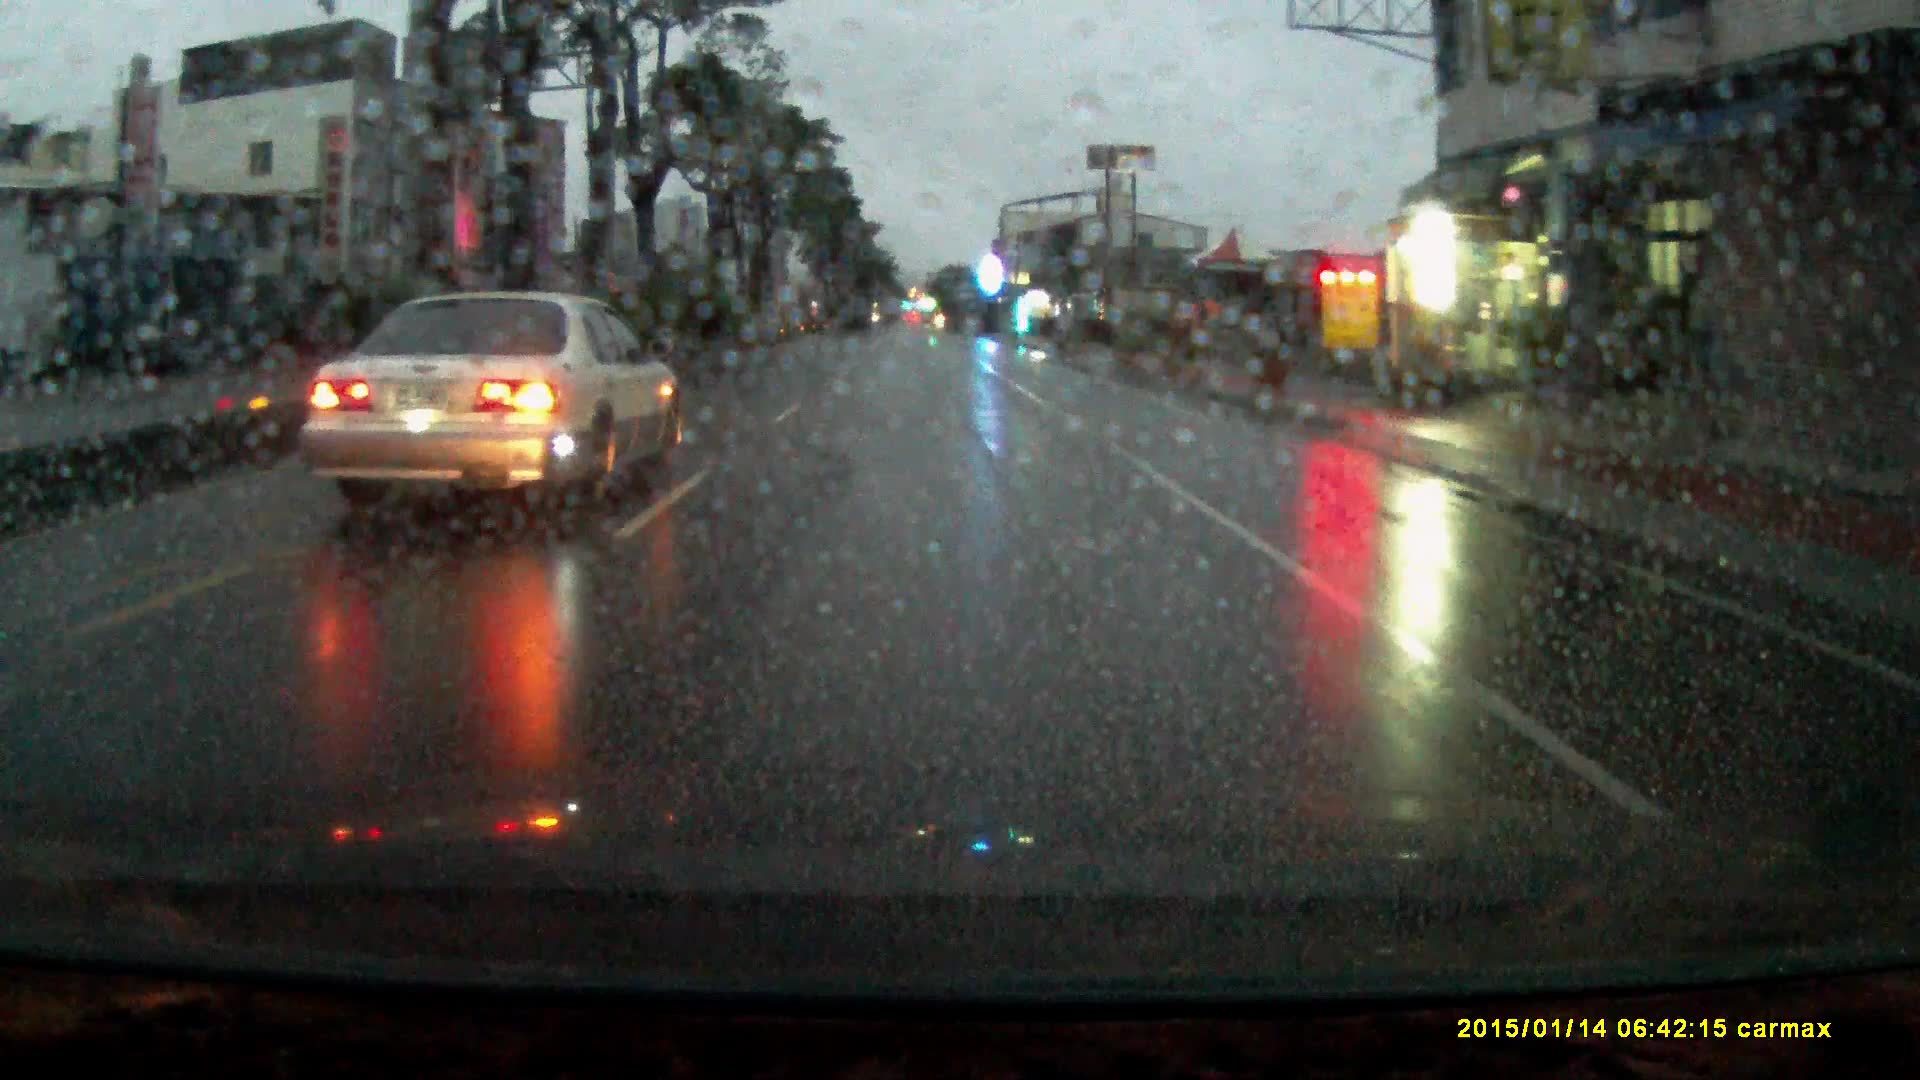vehicle: (294, 289, 684, 516)
